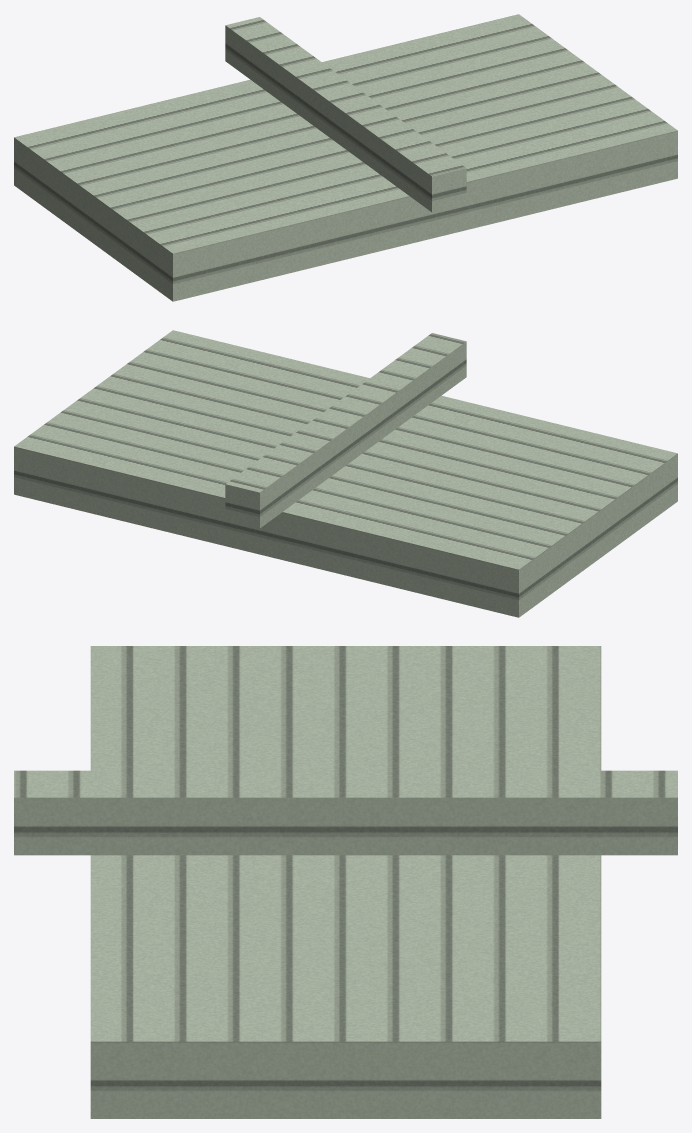
Rendered from disc.glb.
3 views of the same model, one above another, from view 1: azimuth 30°, elevation 25°; view 2: azimuth 150°, elevation 25°; view 3: azimuth 270°, elevation 25° (orthographic). The views are drawn at different scales.
Parts seen in each view (by area): view 1: disc-col; view 2: disc-col; view 3: disc-col.
Part boxes in pixels (x1,y1,x2,y2): disc-col: (14,14,677,301); disc-col: (14,330,677,617); disc-col: (14,646,677,1118).
Size of the model in its own units: 2.2 by 0.355 by 1.56.
Materials: 1 (1 with a texture image).
